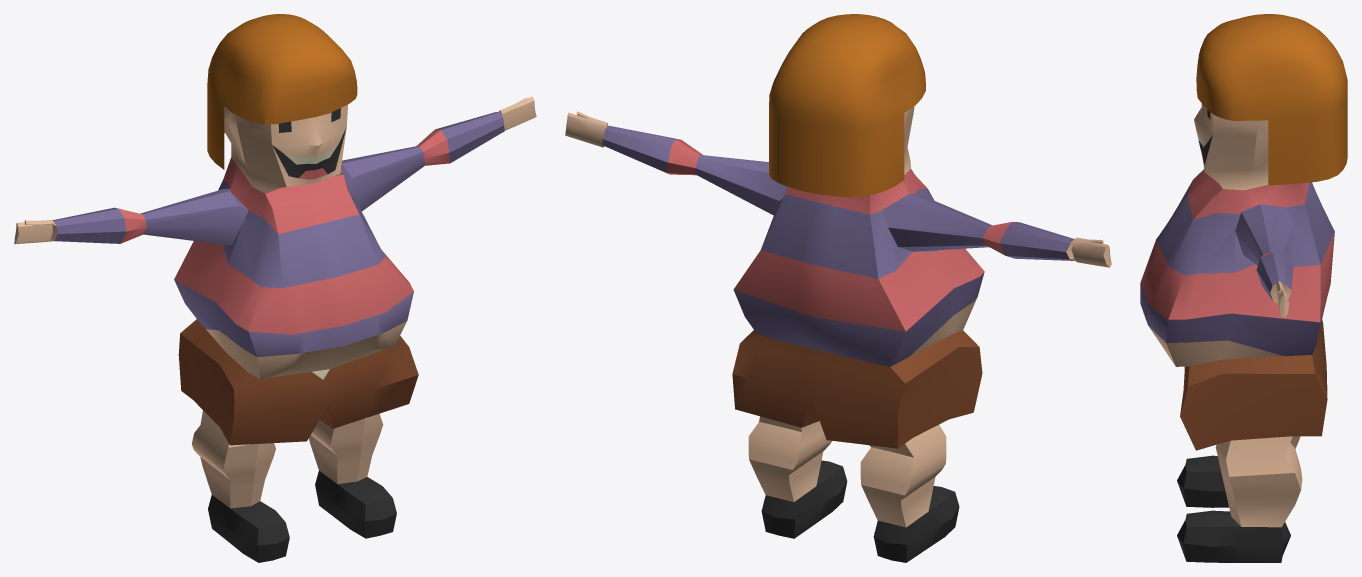
The model's file is Fils3.fbx.
The picture shows the model from 3 angles, left to right: view 1: azimuth 30°, elevation 25°; view 2: azimuth 150°, elevation 25°; view 3: azimuth 270°, elevation 25°; orthographic projection. The views are drawn at different scales.
Parts seen in each view (by area): view 1: Cube.002, Sphere; view 2: Cube.002, Sphere; view 3: Cube.002, Sphere.
Part boxes in pixels (x1,y1,x2,y2): Cube.002: (14, 96, 536, 562); Sphere: (207, 14, 357, 169); Cube.002: (565, 107, 1111, 562); Sphere: (769, 14, 925, 197); Cube.002: (1140, 103, 1334, 562); Sphere: (1196, 14, 1347, 185).
Bounding box in the file's own units: 888 × 812 × 302.
